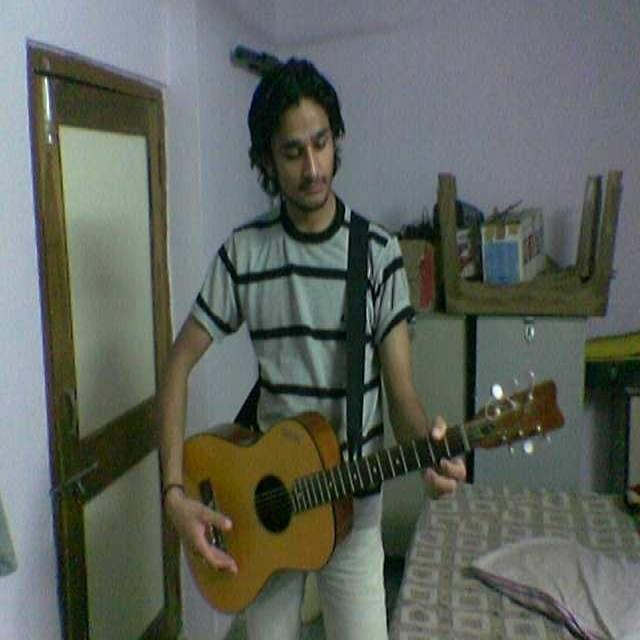guitar: (181, 380, 566, 614)
